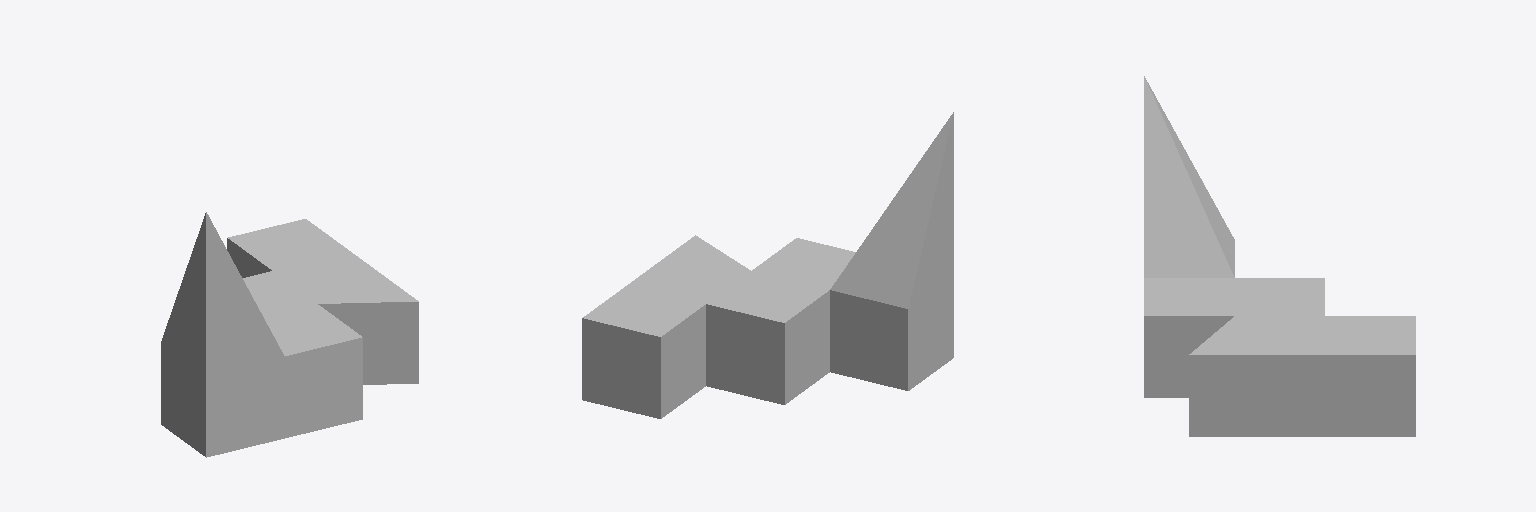
The model's file is FUSION.3Poly_0.obj.
3 views of the same model, side by side, from view 1: azimuth 30°, elevation 25°; view 2: azimuth 150°, elevation 25°; view 3: azimuth 270°, elevation 25° (orthographic).
Parts seen in each view (by area): view 1: Object0, Object3, Object1; view 2: Object0, Object3, Object1; view 3: Object3, Object1, Object0.
Part boxes in pixels (bbox=[...]): Object0: bbox=[161, 212, 284, 457]; Object3: bbox=[227, 219, 418, 384]; Object1: bbox=[243, 271, 362, 437]; Object0: bbox=[830, 112, 953, 390]; Object3: bbox=[582, 235, 750, 418]; Object1: bbox=[706, 238, 855, 404]; Object3: bbox=[1189, 316, 1415, 436]; Object1: bbox=[1144, 278, 1324, 397]; Object0: bbox=[1144, 76, 1234, 277].
Bounding box in the file's own units: 6 × 6 × 6.